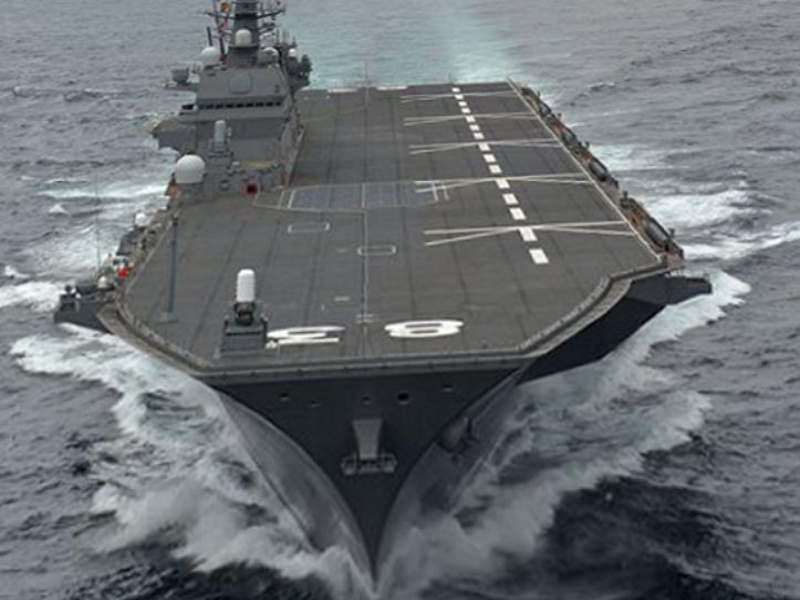carrier: (114, 4, 682, 591)
